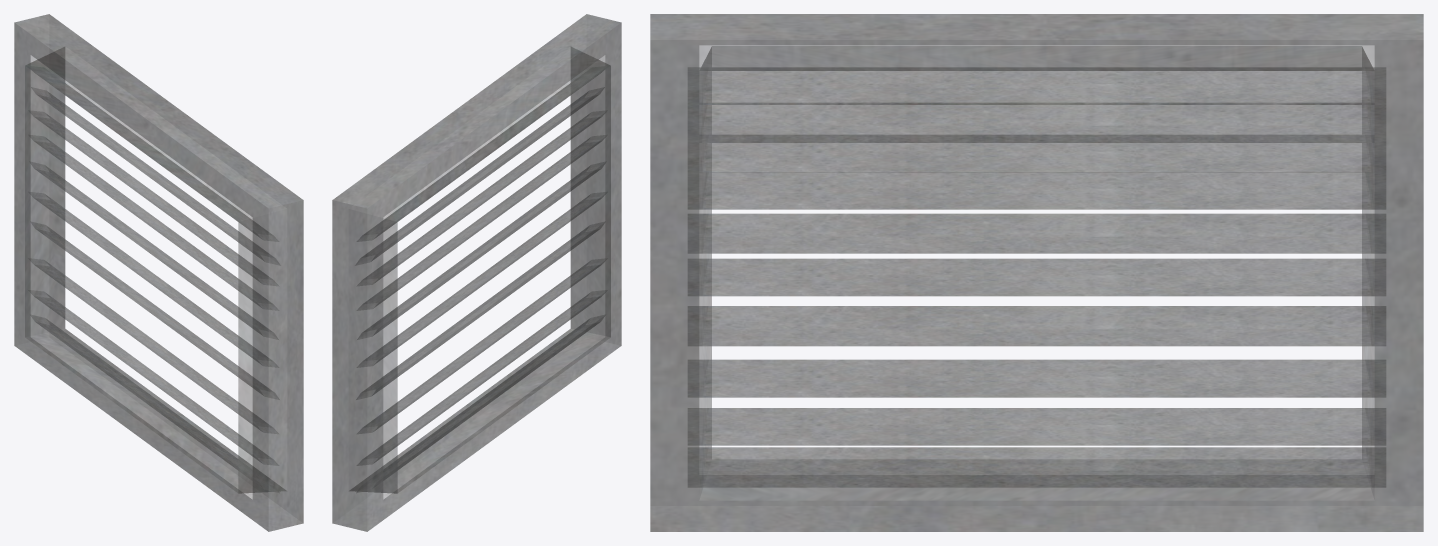
File: pipe5.fbx
3 renders of one model, left to right at view 1: azimuth 30°, elevation 25°; view 2: azimuth 150°, elevation 25°; view 3: azimuth 270°, elevation 25°, orthographic. The views are drawn at different scales.
Visible parts, largest first — view 1: ventilationGrate, Grate.004, Grate.006, Grate.009, Grate.003, Grate.008, Grate.001, Grate.005, Grate.007, Grate.002, Grate; view 2: ventilationGrate, Grate.004, Grate.006, Grate.009, Grate.003, Grate.008, Grate.001, Grate.005, Grate.007, Grate.002, Grate; view 3: ventilationGrate, Grate, Grate.007, Grate.005, Grate.002, Grate.008, Grate.006, Grate.004, Grate.009, Grate.001, Grate.003.
Boxes of the visible parts, box(x1,y1,x2,y2) form: ventilationGrate: box(14, 14, 303, 531); Grate.004: box(30, 135, 278, 310); Grate.006: box(30, 192, 278, 367); Grate.009: box(30, 290, 278, 465); Grate.003: box(30, 111, 278, 285); Grate.008: box(30, 259, 278, 433); Grate.001: box(34, 68, 278, 241); Grate.005: box(30, 162, 278, 339); Grate.007: box(31, 222, 279, 399); Grate.002: box(31, 87, 280, 265); Grate: box(31, 315, 278, 492); ventilationGrate: box(332, 14, 621, 531); Grate.004: box(357, 135, 605, 310); Grate.006: box(357, 192, 605, 367); Grate.009: box(357, 290, 605, 465); Grate.003: box(357, 111, 605, 285); Grate.008: box(357, 259, 605, 433); Grate.001: box(357, 68, 601, 241); Grate.005: box(357, 162, 605, 339); Grate.007: box(356, 222, 604, 399); Grate.002: box(355, 87, 604, 265); Grate: box(357, 315, 604, 492); ventilationGrate: box(650, 14, 1423, 531); Grate: box(688, 447, 1385, 487); Grate.007: box(688, 306, 1385, 346); Grate.005: box(688, 213, 1385, 253); Grate.002: box(688, 103, 1385, 142); Grate.008: box(688, 359, 1385, 397); Grate.006: box(688, 258, 1385, 296); Grate.004: box(688, 172, 1385, 209); Grate.009: box(688, 408, 1385, 445); Grate.001: box(688, 67, 1385, 104); Grate.003: box(688, 135, 1385, 172).
Size of the model in its own units: 21.11 by 146 by 208.
